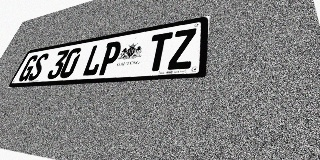0: (58, 47, 83, 78)
3: (46, 49, 70, 79)
G: (17, 54, 40, 82)
L: (81, 43, 107, 77)
P: (96, 40, 123, 75)
S: (27, 53, 50, 81)
T: (145, 32, 173, 72)
Z: (167, 28, 196, 70)
